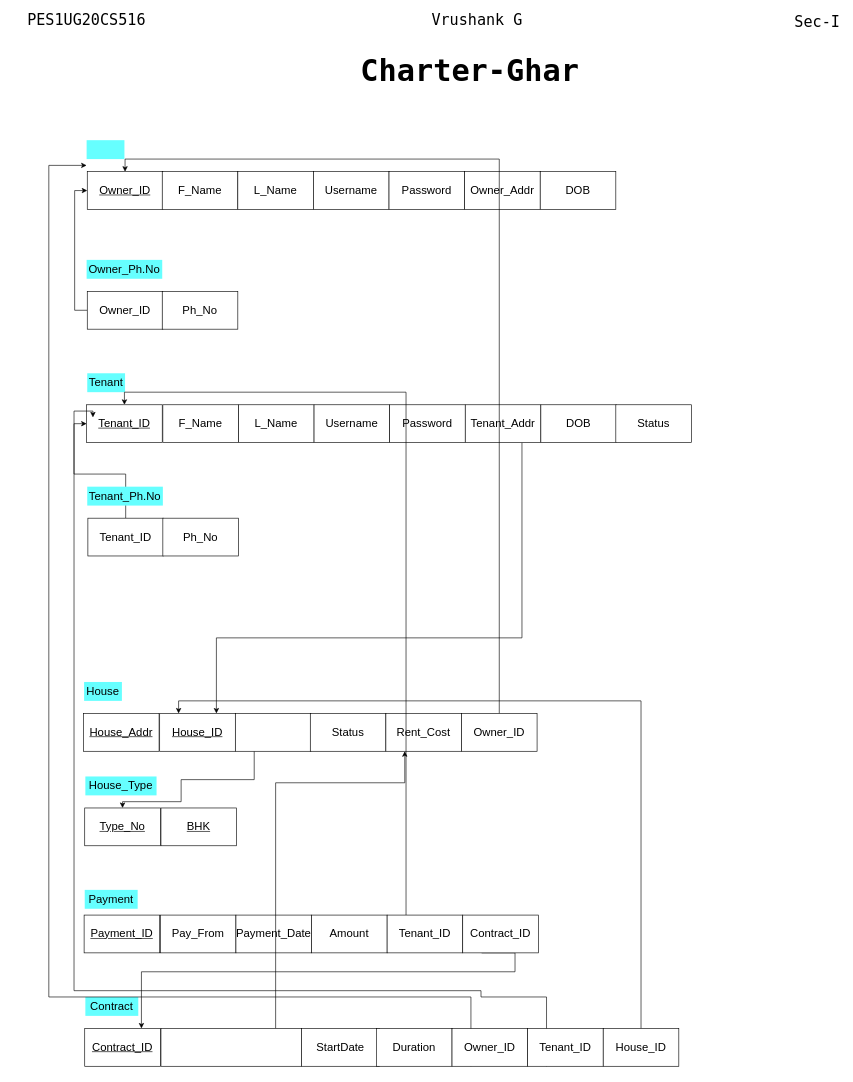
Image size: 853x1082. Some labels were removed from this diagram. Each missing label, with the centre of its shape:
"Htype" belongs at point (273, 732).
"Owner" belongs at point (105, 149).
"Rent_Cost_Duration" belongs at point (230, 1047).
